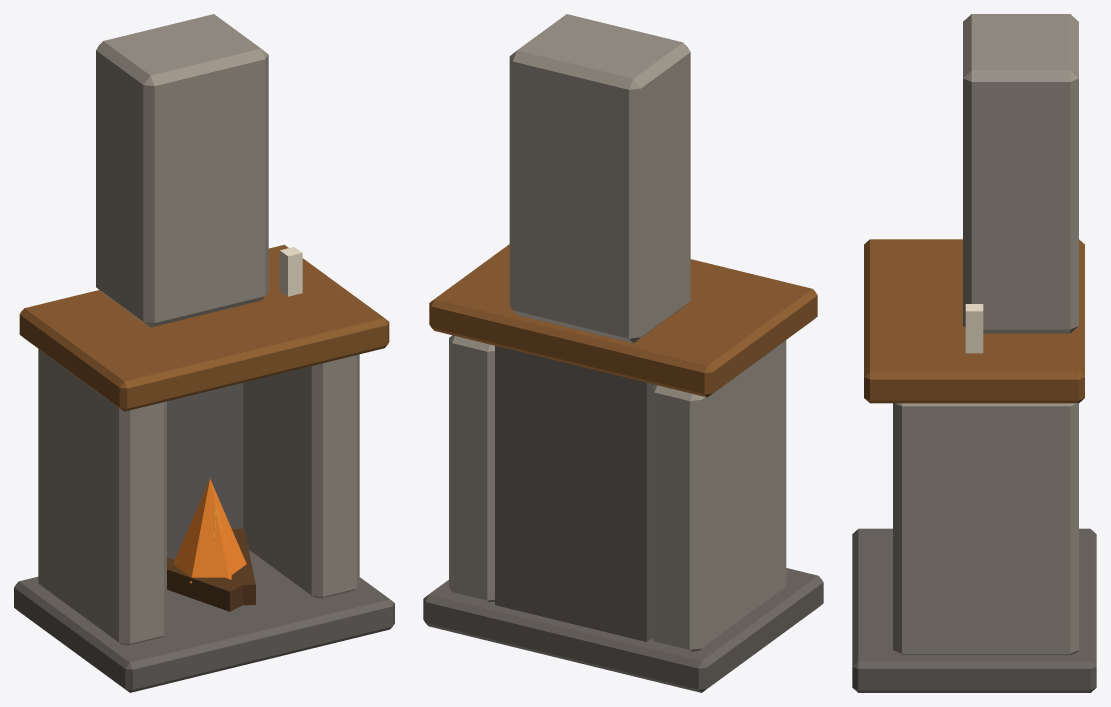
File: PR_Inn_Somine.fbx
3 renders of one model, left to right at view 1: azimuth 30°, elevation 25°; view 2: azimuth 150°, elevation 25°; view 3: azimuth 270°, elevation 25°, orthographic. The views are drawn at different scales.
Visible parts, largest first — view 1: PR_Inn_Somine; view 2: PR_Inn_Somine; view 3: PR_Inn_Somine.
Boxes of the visible parts, bbox=[...] form: PR_Inn_Somine: bbox=[14, 14, 394, 692]; PR_Inn_Somine: bbox=[423, 14, 823, 692]; PR_Inn_Somine: bbox=[852, 14, 1096, 692].
Size of the model in its own units: 0.56 by 1.11 by 0.42.
Materials: 1 (1 with a texture image).
